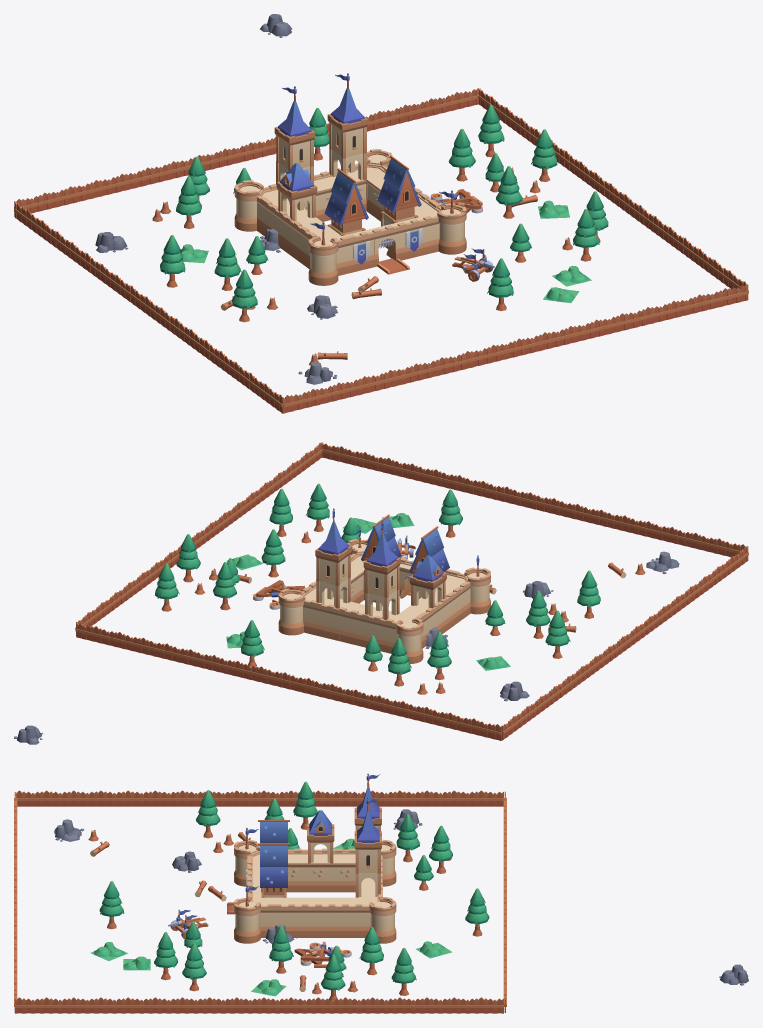
File: map.glb
3 renders of one model, top to bottom at view 1: azimuth 30°, elevation 25°; view 2: azimuth 150°, elevation 25°; view 3: azimuth 270°, elevation 25°, orthographic. The views are drawn at different scales.
Visible parts, largest first — view 1: fence.002, fence, fence.001, fence.003, wall-corner-half-tower.001, wall-corner-half-tower.002, tower-slant-roof.002, tower-slant-roof.001, wall-corner-half-tower.003, tower-square-mid-windows.002, tower-square-top-roof-high-windows.001, tower-square-top-roof-high.001 (+20 smaller); view 2: fence, fence.002, fence.001, fence.003, wall-corner-half-tower.004, wall-corner-half-tower.002, wall-corner-half-tower.003, wall-half.008, wall-half.009, tower-slant-roof.001, tower-square-mid-windows.001, tower-square-mid-windows.002 (+25 smaller); view 3: fence.003, fence.001, wall-corner-half-tower.001, wall-corner-half-tower.004, tower-slant-roof.002, wall-half.003, wall-half.002, wall-half.004, wall-half.005, wall-half.006, fence, wall-corner-half-tower.002 (+25 smaller).
Part boxes in pixels (<box>): fence.002: <box>282,284,747,413</box>; fence: <box>14,88,478,216</box>; fence.001: <box>14,201,283,413</box>; fence.003: <box>478,88,748,300</box>; wall-corner-half-tower.001: <box>414,202,466,254</box>; wall-corner-half-tower.002: <box>308,231,349,285</box>; tower-slant-roof.002: <box>377,155,421,223</box>; tower-slant-roof.001: <box>324,168,368,235</box>; wall-corner-half-tower.003: <box>234,180,278,235</box>; tower-square-mid-windows.002: <box>329,123,366,158</box>; tower-square-top-roof-high-windows.001: <box>276,162,317,200</box>; tower-square-top-roof-high.001: <box>274,101,315,145</box>; fence: <box>75,622,502,740</box>; fence.002: <box>321,442,746,557</box>; fence.001: <box>501,546,748,740</box>; fence.003: <box>75,442,322,635</box>; wall-corner-half-tower.004: <box>278,587,327,635</box>; wall-corner-half-tower.002: <box>445,567,490,617</box>; wall-corner-half-tower.003: <box>386,613,423,663</box>; wall-half.008: <box>339,602,375,646</box>; wall-half.009: <box>315,597,351,640</box>; tower-slant-roof.001: <box>409,526,449,578</box>; tower-square-mid-windows.001: <box>365,566,399,598</box>; tower-square-mid-windows.002: <box>316,554,350,586</box>; fence.003: <box>15,997,503,1013</box>; fence.001: <box>15,790,503,806</box>; wall-corner-half-tower.001: <box>234,894,274,943</box>; wall-corner-half-tower.004: <box>355,894,396,943</box>; tower-slant-roof.002: <box>258,843,289,897</box>; wall-half.003: <box>328,848,355,892</box>; wall-half.002: <box>301,848,328,892</box>; wall-half.004: <box>328,897,355,937</box>; wall-half.005: <box>301,897,328,937</box>; wall-half.006: <box>274,897,301,937</box>; fence: <box>503,791,506,1012</box>; wall-corner-half-tower.002: <box>234,839,261,891</box>.
Size of the model in its own units: 18.14 by 5.14 by 27.05.
Materials: 24 (24 with a texture image).
